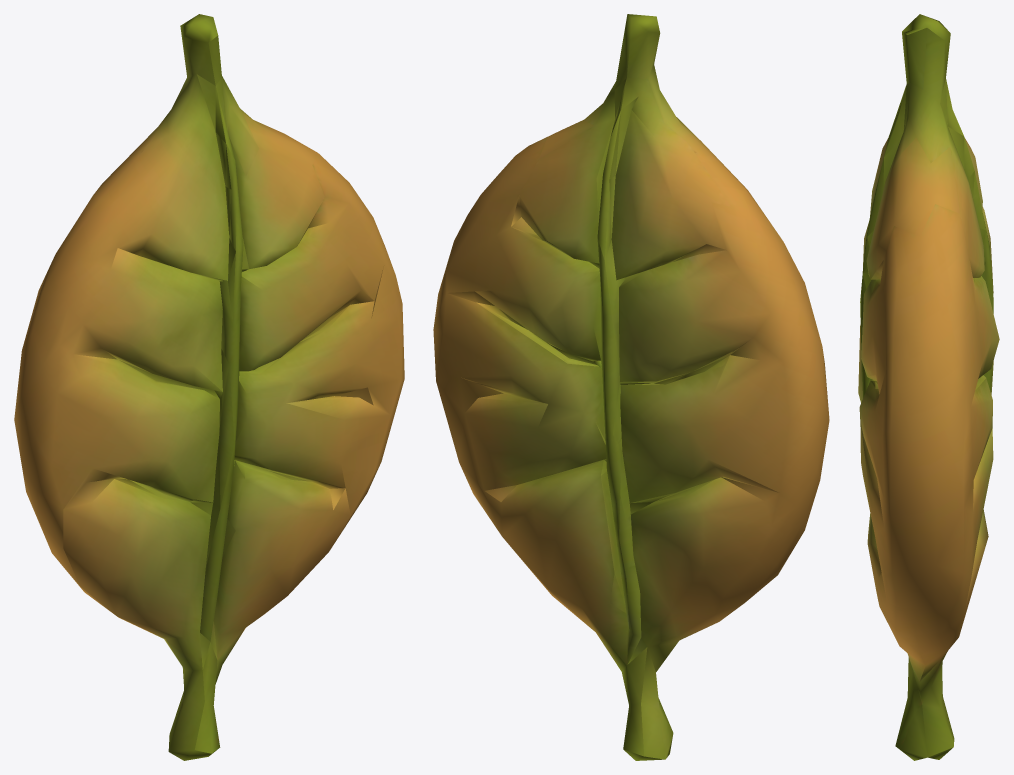
Rendered from effect-leaf.glb.
The picture shows the model from 3 angles, left to right: view 1: azimuth 30°, elevation 25°; view 2: azimuth 150°, elevation 25°; view 3: azimuth 270°, elevation 25°; orthographic projection.
Parts seen in each view (by area): view 1: model; view 2: model; view 3: model.
Boxes of the visible parts, x1=… form: model: x1=14, y1=14, x2=404, y2=760; model: x1=433, y1=14, x2=829, y2=760; model: x1=858, y1=14, x2=999, y2=760.
Size of the model in its own units: 0.5373 by 1 by 0.1728.
Materials: 1 (1 with a texture image).
